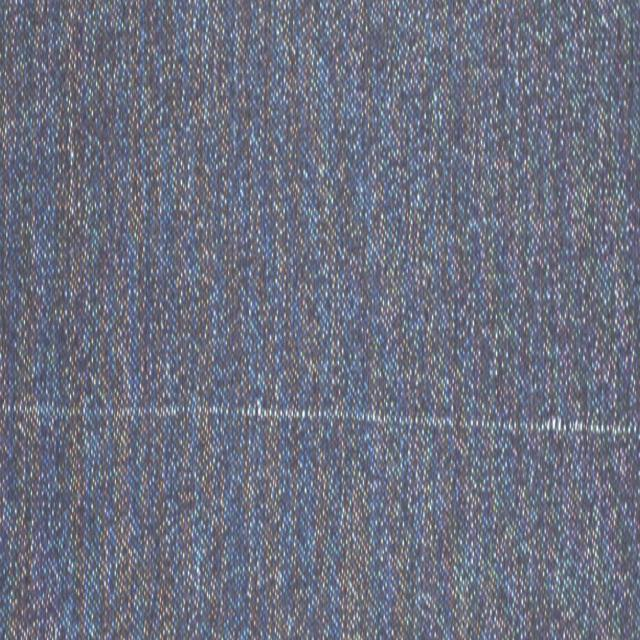Line: (0, 398, 640, 440)
